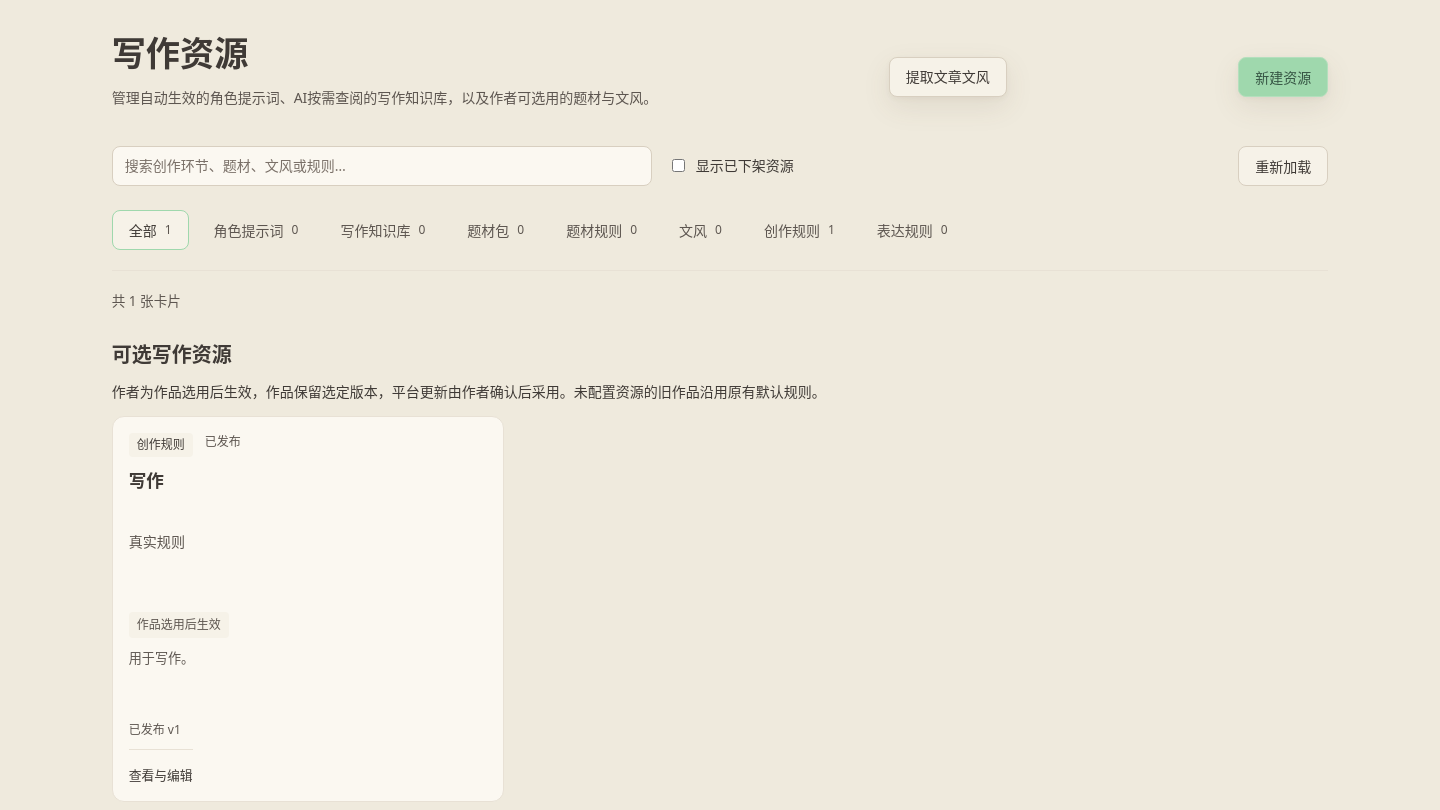
Test: requires confirmation to take a resource down and keeps it available in the archive filter
The image size is (1440, 810).
Click the button with aria-label "编辑 写作".
click(308, 609)  # box [112,416,504,802]
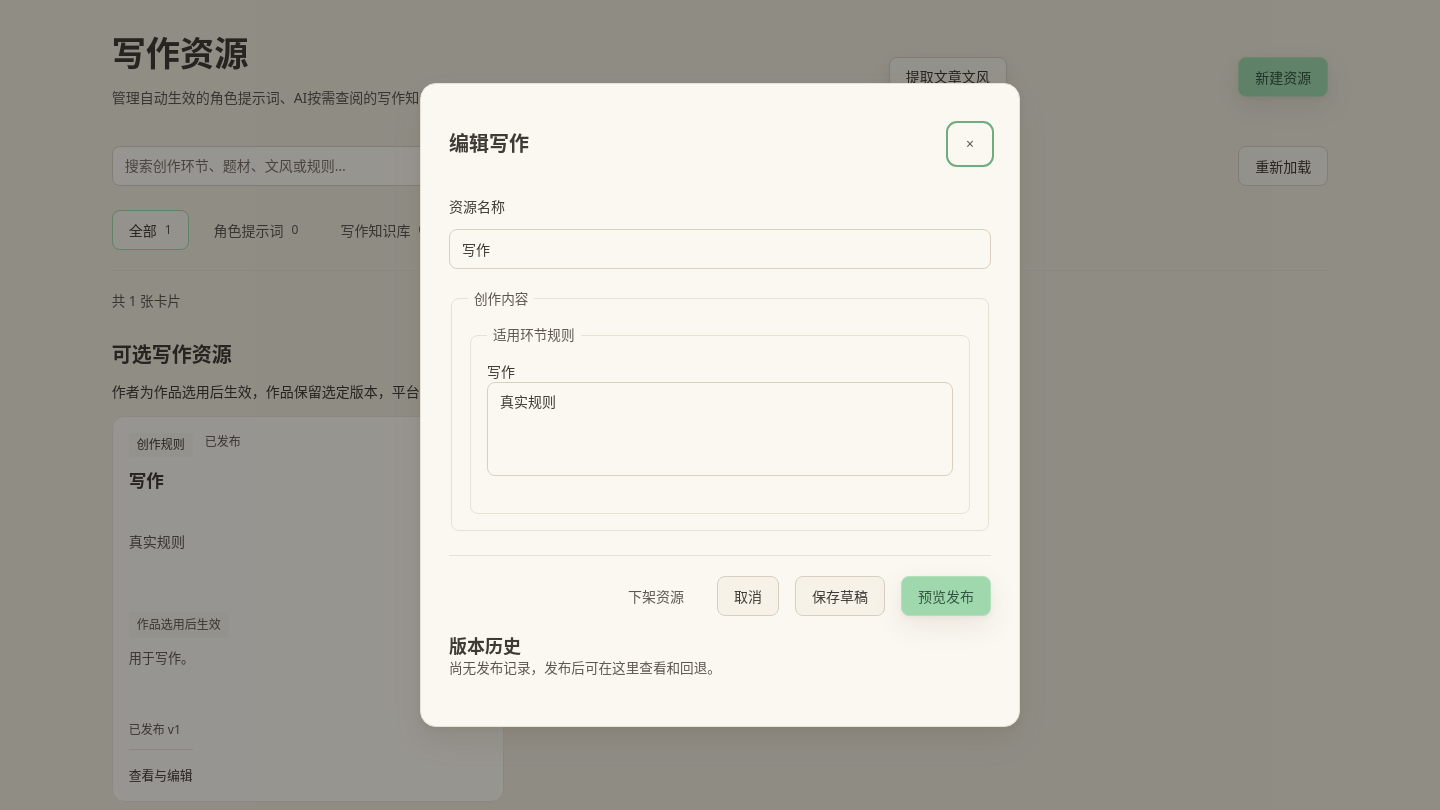
Click the button "下架资源".
click(656, 596)  # box [611,576,701,616]
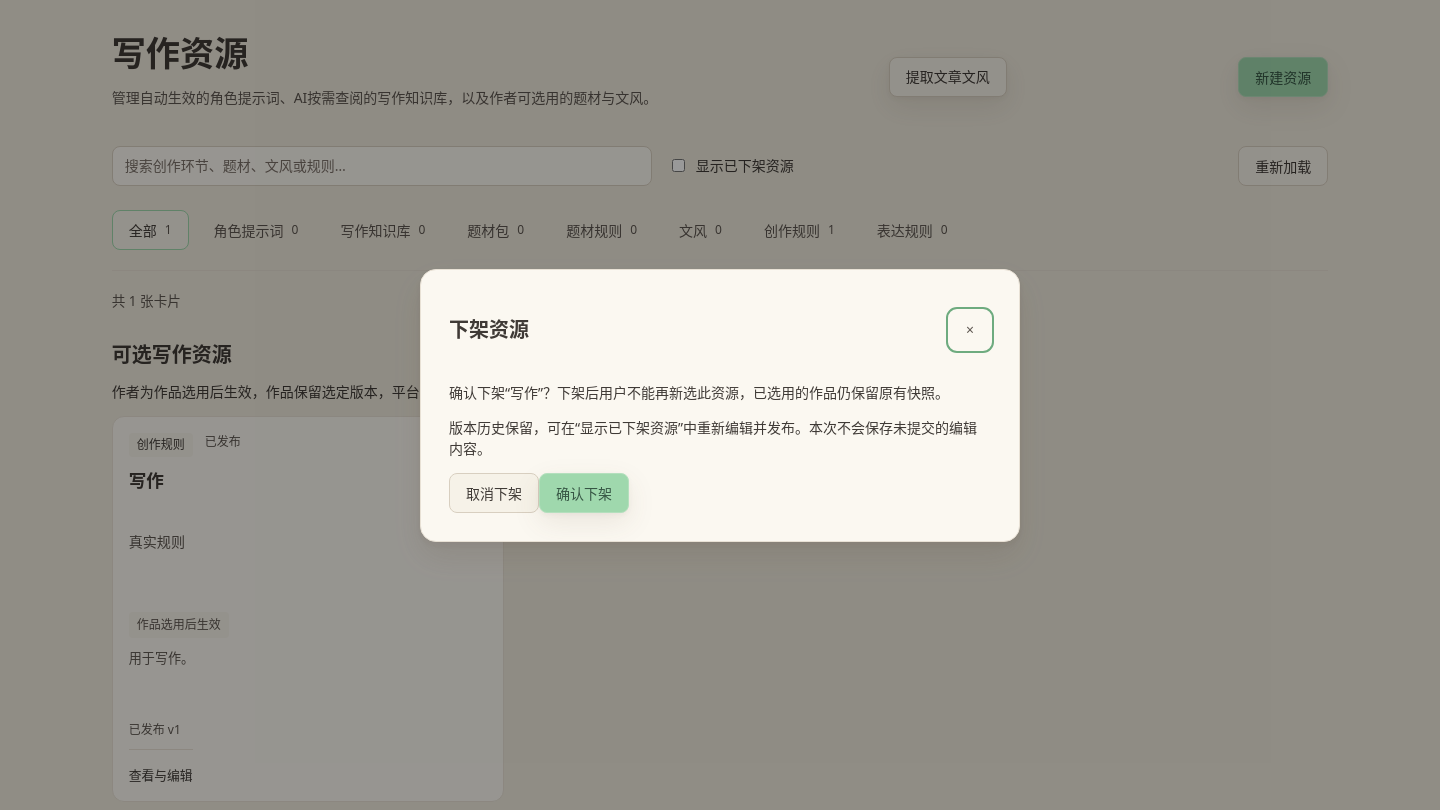
Result: the text "确认下架“写作”？下架后用户不能再新选此资源，已选用的作品仍保留原有快照。" is shown at [449,382,991,402]
Click the button "取消下架".
click(494, 492)  # box [449,472,539,512]
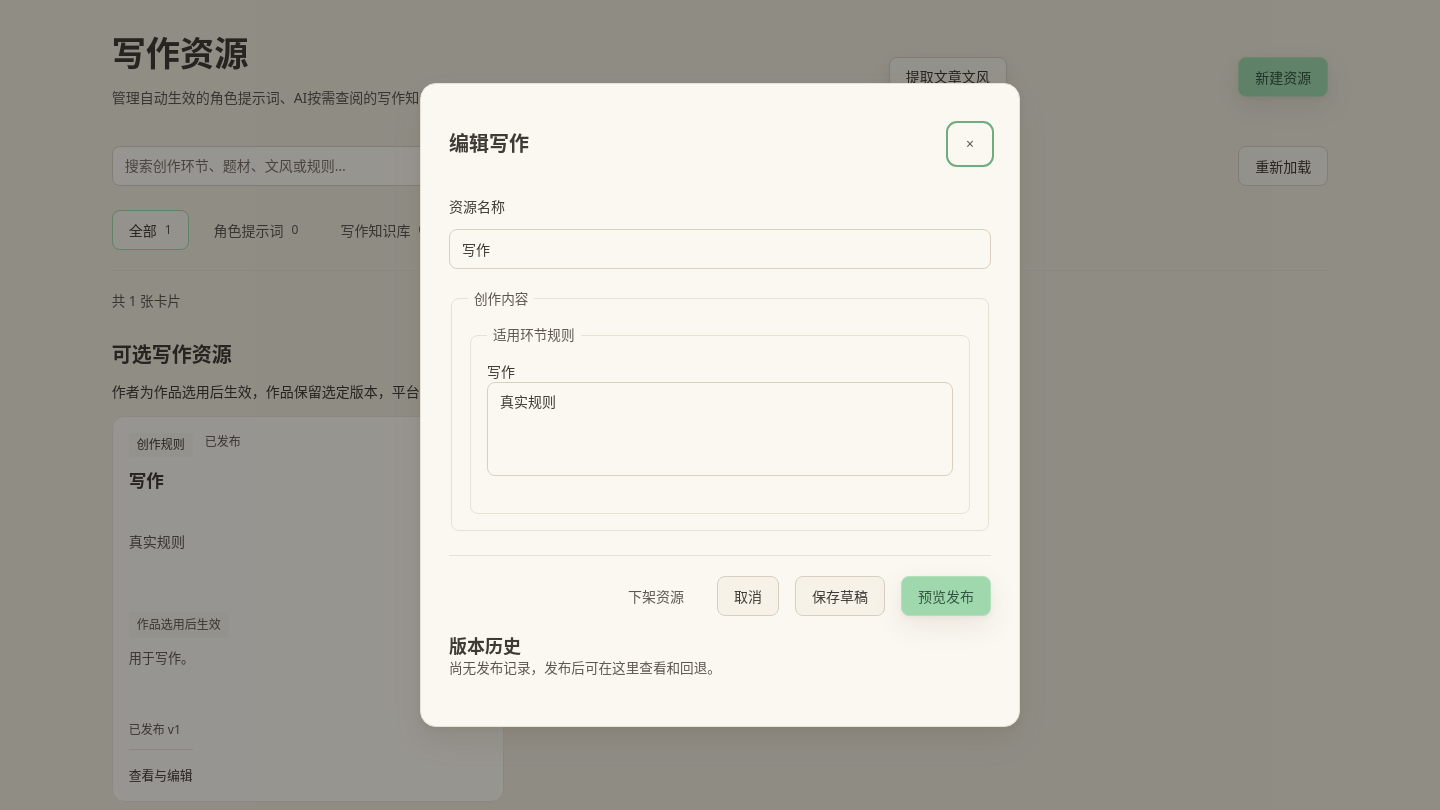
Click the button "下架资源".
click(656, 596)  # box [611,576,701,616]
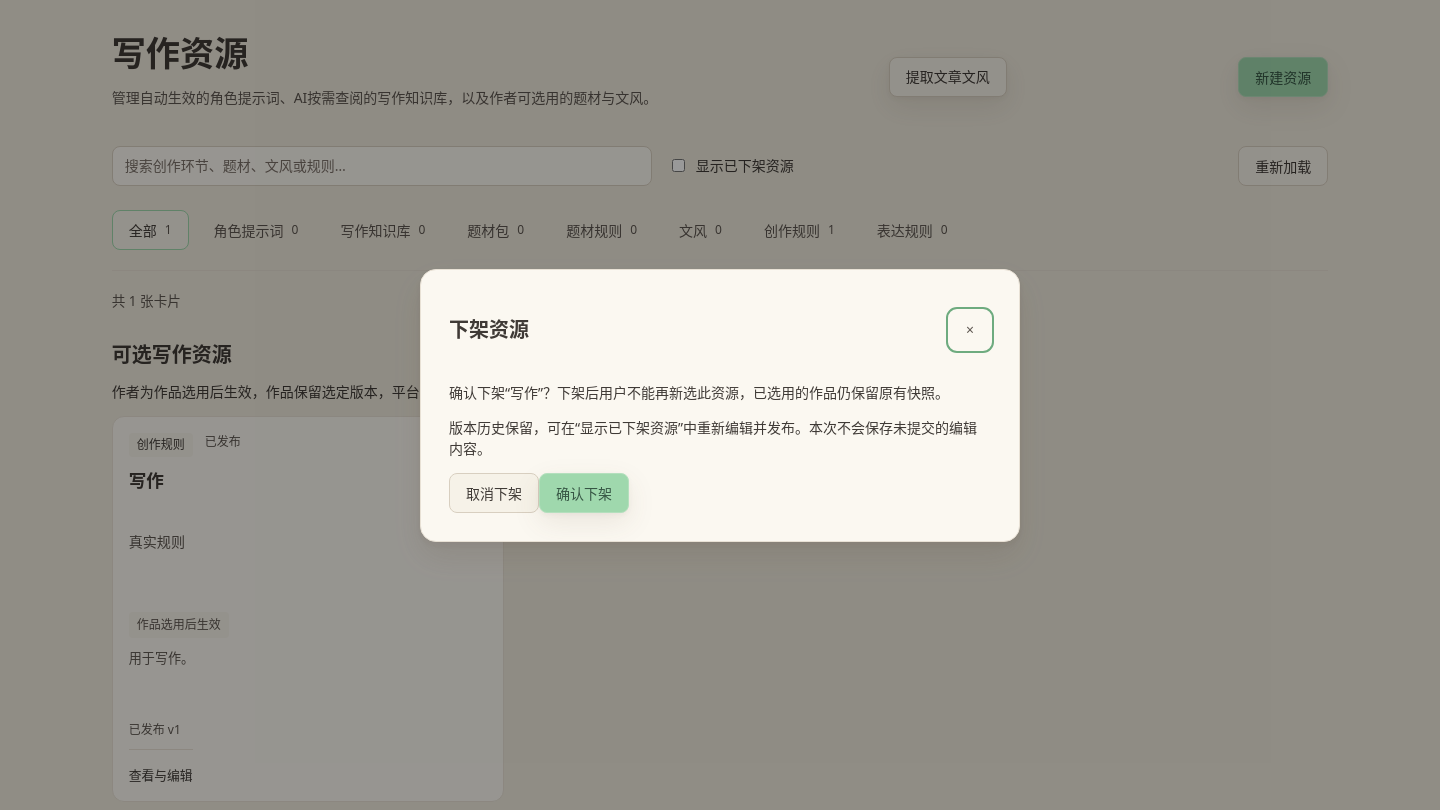
Click the button "确认下架".
click(584, 492)  # box [539,472,629,512]
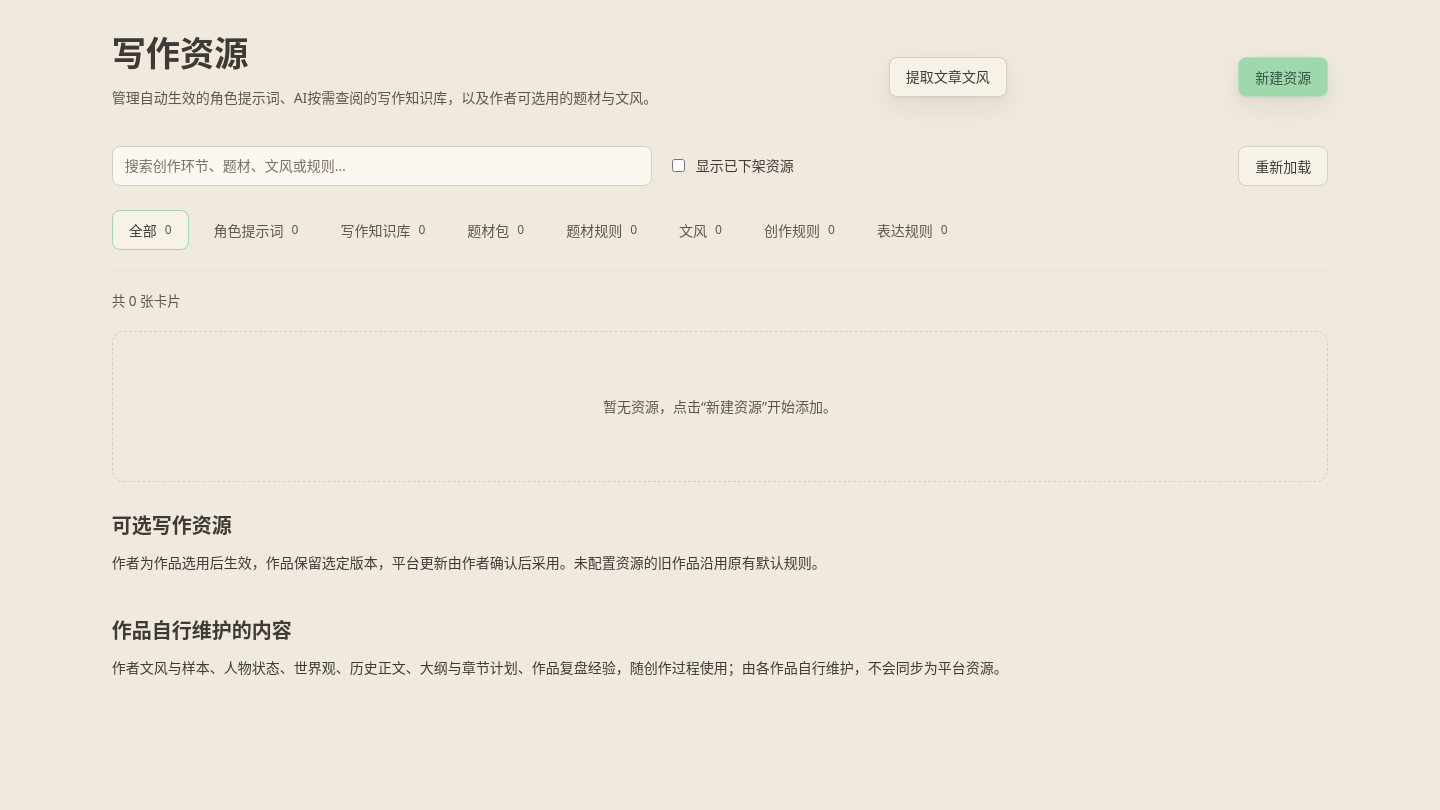
Result: the dialog is gone
Click the checkbox labelled "显示已下架资源".
click(678, 166)  # box [672,160,685,172]
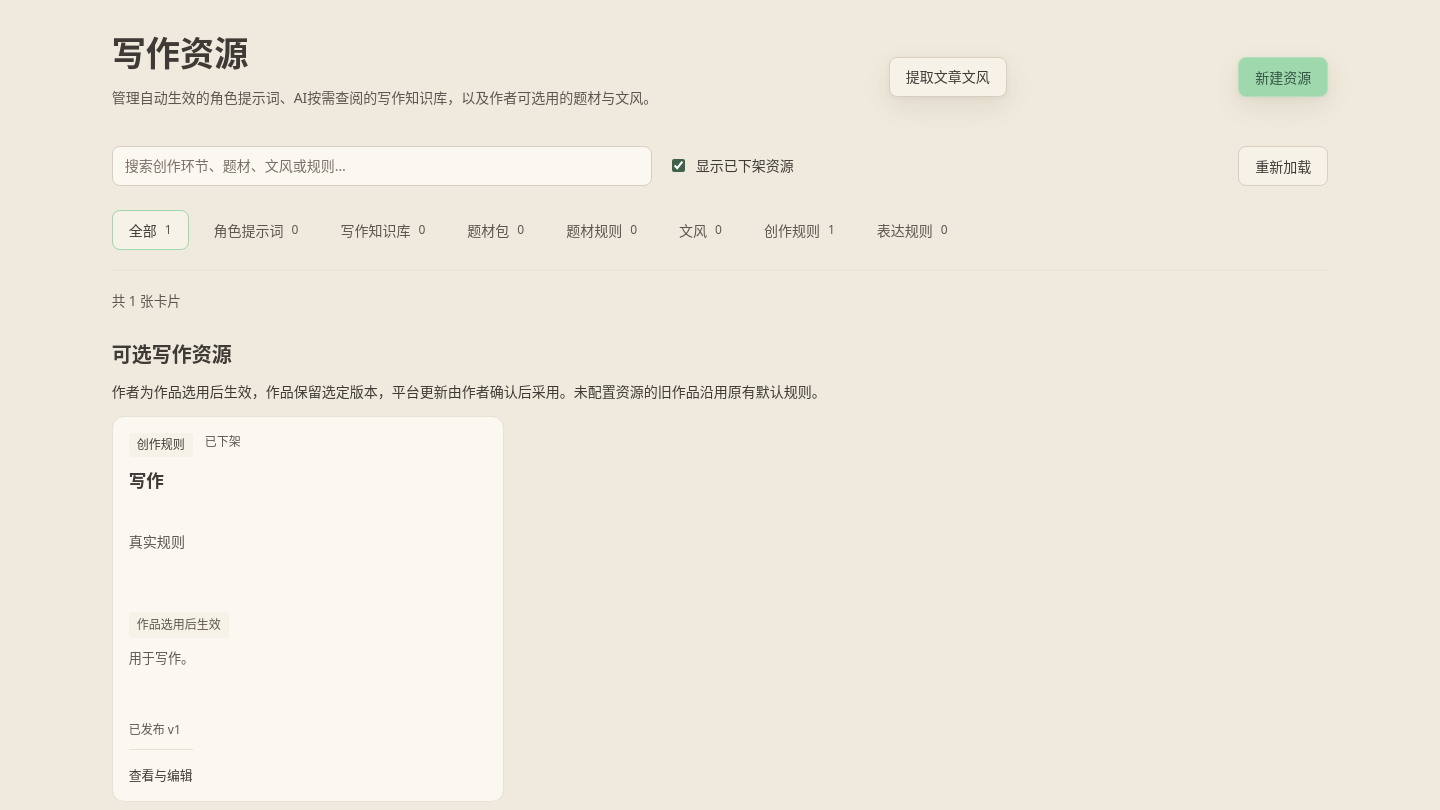
Result: the button with aria-label "编辑 写作" is shown at [112,416,504,802]
